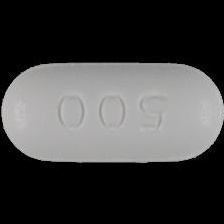67544-475: (0, 0, 224, 224)
